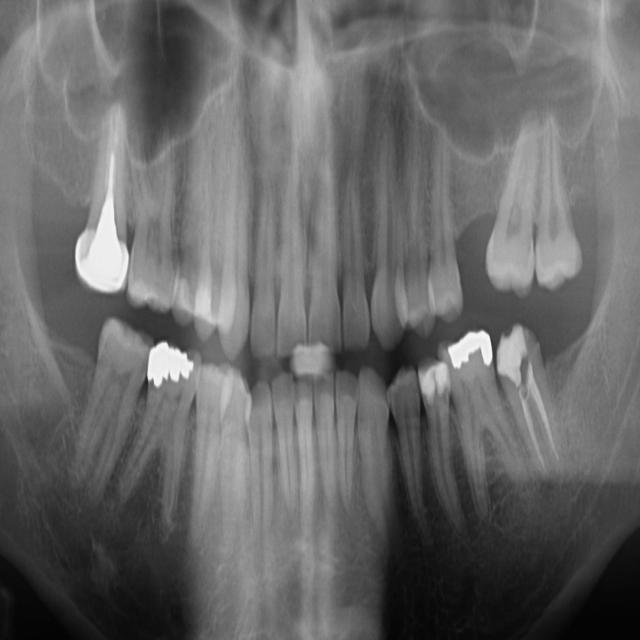dolgu: (149, 342, 198, 393), (489, 330, 533, 384), (447, 331, 498, 374), (420, 357, 454, 401)
kanal-tedavisi: (503, 376, 571, 485), (87, 125, 131, 246)
kaplama: (68, 226, 132, 296)
